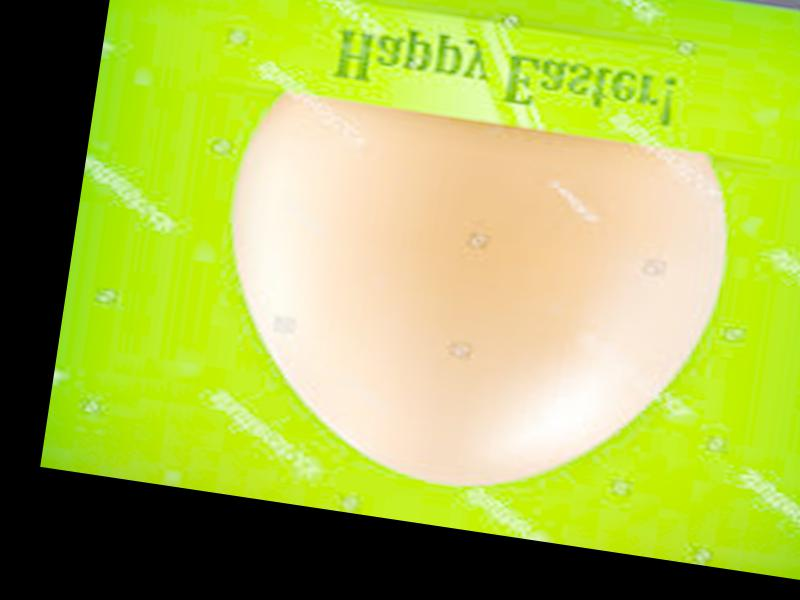Eggs: (199, 87, 738, 520)
